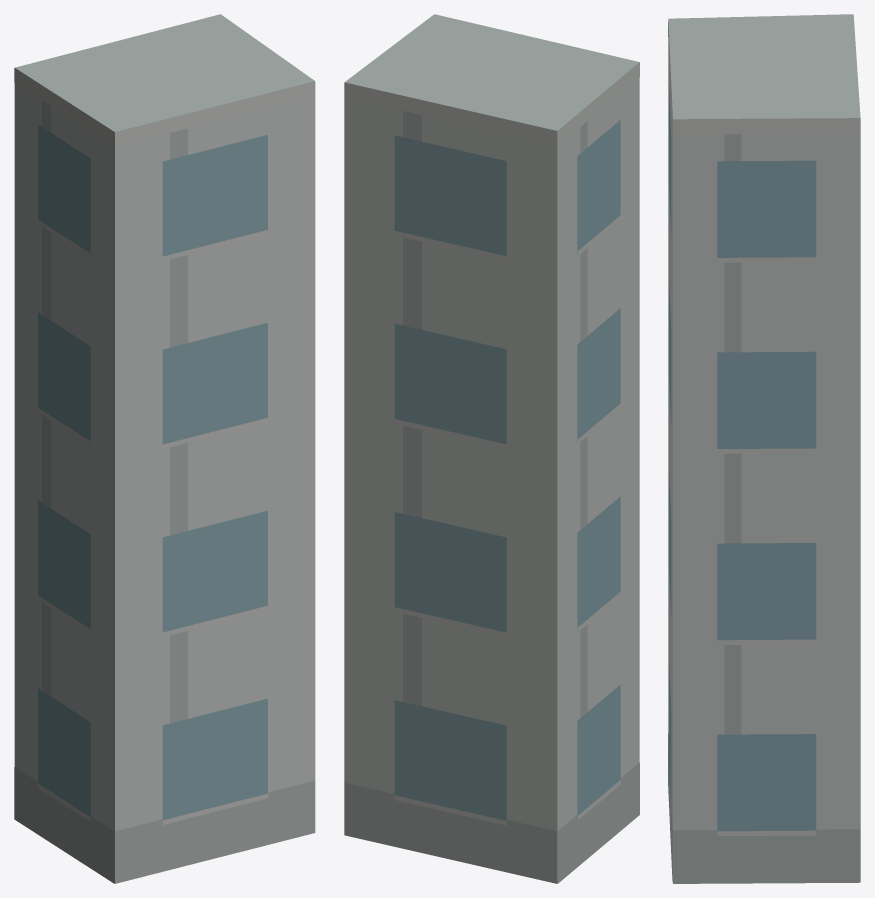
The model's file is survey-upis-32623360.glb.
The picture shows the model from 3 angles, left to right: view 1: azimuth 30°, elevation 25°; view 2: azimuth 150°, elevation 25°; view 3: azimuth 270°, elevation 25°; orthographic projection.
Parts seen in each view (by area): view 1: survey-upis-32623360.tmp; view 2: survey-upis-32623360.tmp; view 3: survey-upis-32623360.tmp.
Part boxes in pixels (box(x1,y1,x2,y2)): survey-upis-32623360.tmp: box(14, 14, 315, 883); survey-upis-32623360.tmp: box(344, 14, 639, 883); survey-upis-32623360.tmp: box(668, 14, 860, 883).
Size of the model in its own units: 3.61 by 12.2 by 2.79.
